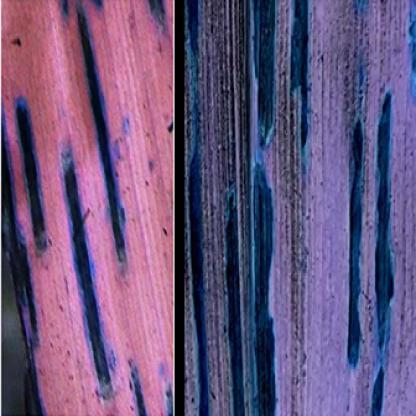Corn Gray leaf spot: (176, 1, 414, 414)
